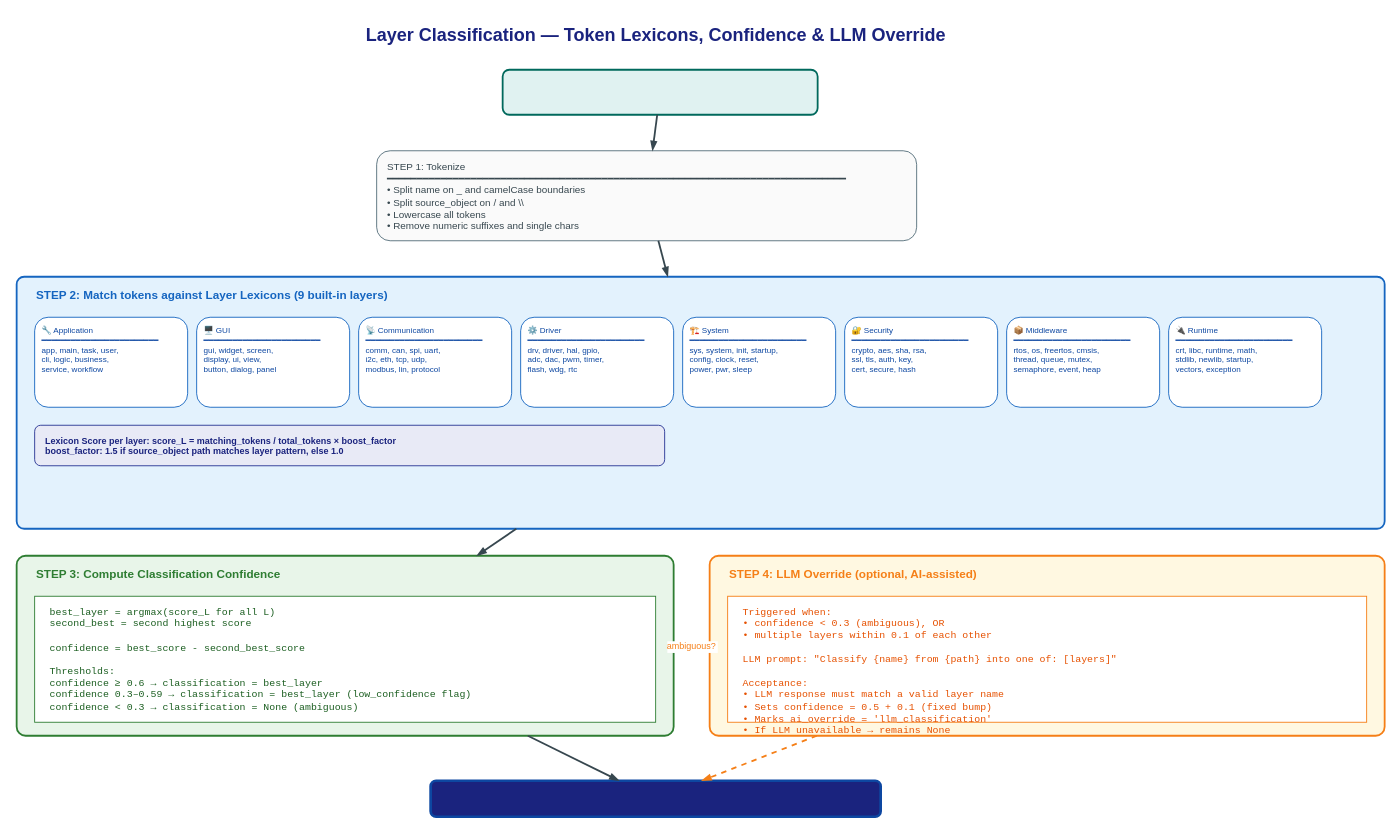
Some shapes in this 1400 by 833 pixel diagram are drawn without their labels. Here are the shapes that lost their labels. From the top down, the centre of each, then its label:
At [659,91]: "Input: ModuleRecord or FunctionRecord (name + source_object)".
At [655,798]: "Output: item.layer = str | None, item.layer_confidence = float".
